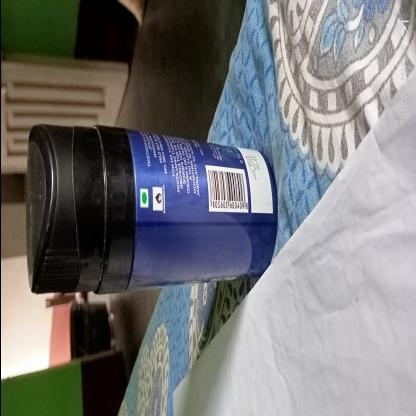bottle: (23, 118, 279, 302)
